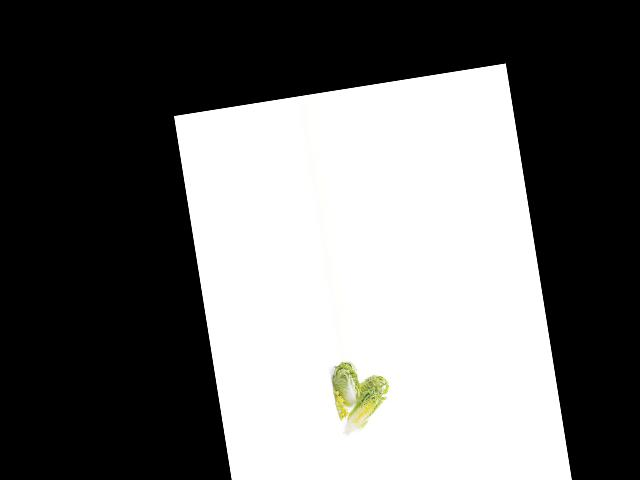lettuce: (327, 361, 365, 415)
